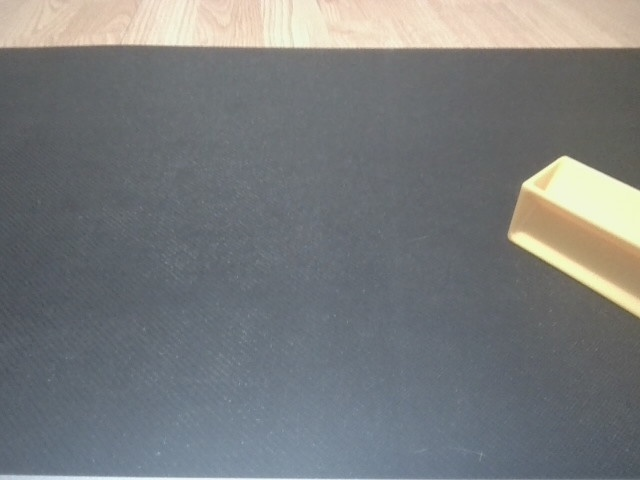YellowSample: (504, 152, 640, 318)
